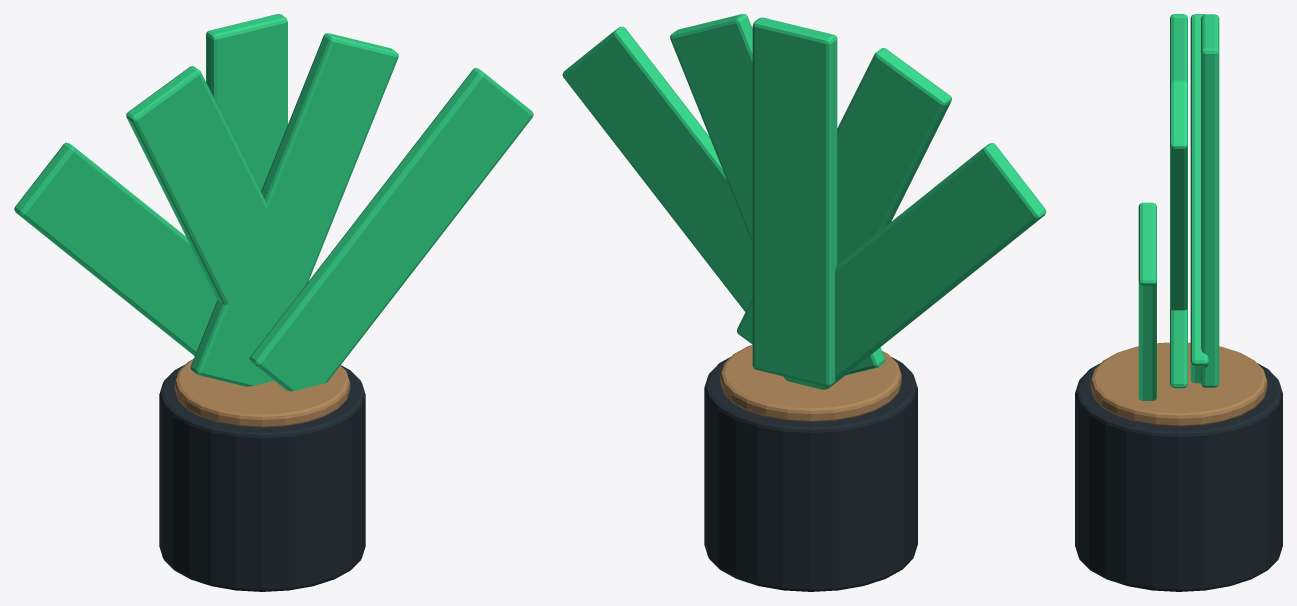
The model's file is CC_S16_P2_Furniture_DecorativePlant_LOD0.fbx.
The picture shows the model from 3 angles, left to right: view 1: azimuth 30°, elevation 25°; view 2: azimuth 150°, elevation 25°; view 3: azimuth 270°, elevation 25°; orthographic projection. The views are drawn at different scales.
Visible parts, largest first — view 1: CC_S16_P2_Furniture_DecorativePlant_LOD0, CC_S16_P2_Furniture_DecorativePlant_LOD0_Pot, CC_S16_P2_Furniture_DecorativePlant_LOD0_Soil; view 2: CC_S16_P2_Furniture_DecorativePlant_LOD0, CC_S16_P2_Furniture_DecorativePlant_LOD0_Pot, CC_S16_P2_Furniture_DecorativePlant_LOD0_Soil; view 3: CC_S16_P2_Furniture_DecorativePlant_LOD0_Pot, CC_S16_P2_Furniture_DecorativePlant_LOD0, CC_S16_P2_Furniture_DecorativePlant_LOD0_Soil.
Boxes of the visible parts, x1,y1,x2,y2 form: CC_S16_P2_Furniture_DecorativePlant_LOD0: (14,14,533,391); CC_S16_P2_Furniture_DecorativePlant_LOD0_Pot: (159,364,365,591); CC_S16_P2_Furniture_DecorativePlant_LOD0_Soil: (174,359,350,427); CC_S16_P2_Furniture_DecorativePlant_LOD0: (562,14,1046,389); CC_S16_P2_Furniture_DecorativePlant_LOD0_Pot: (704,357,917,591); CC_S16_P2_Furniture_DecorativePlant_LOD0_Soil: (720,345,901,421); CC_S16_P2_Furniture_DecorativePlant_LOD0_Pot: (1075,363,1282,591); CC_S16_P2_Furniture_DecorativePlant_LOD0: (1138,14,1219,400); CC_S16_P2_Furniture_DecorativePlant_LOD0_Soil: (1090,342,1267,426).
Size of what is drawn, in the model's own units: 1.09 by 1.1 by 0.4.
